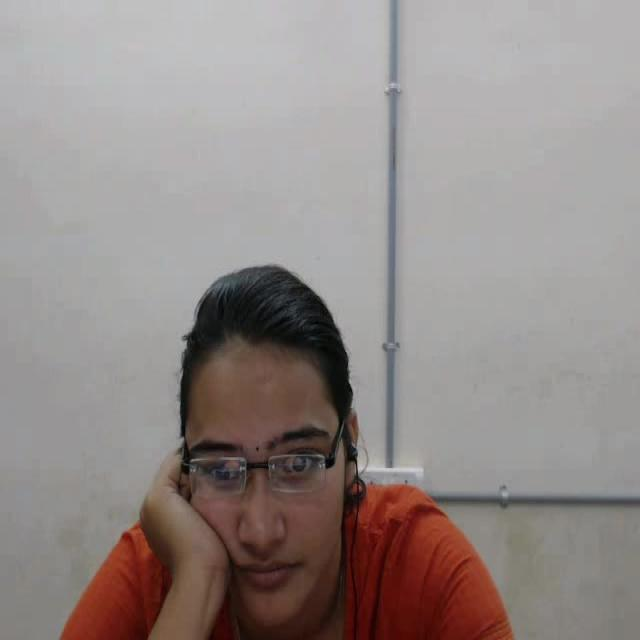Bored: (130, 236, 371, 640)
